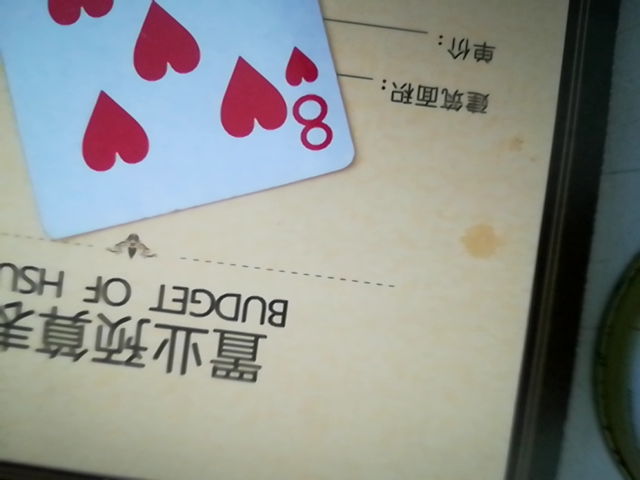hx 8: (0, 0, 357, 241)
